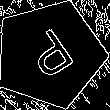P_SE: (19, 23, 80, 86)
